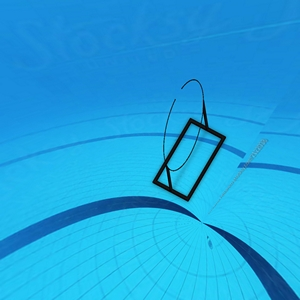circle: (150, 79, 228, 204)
